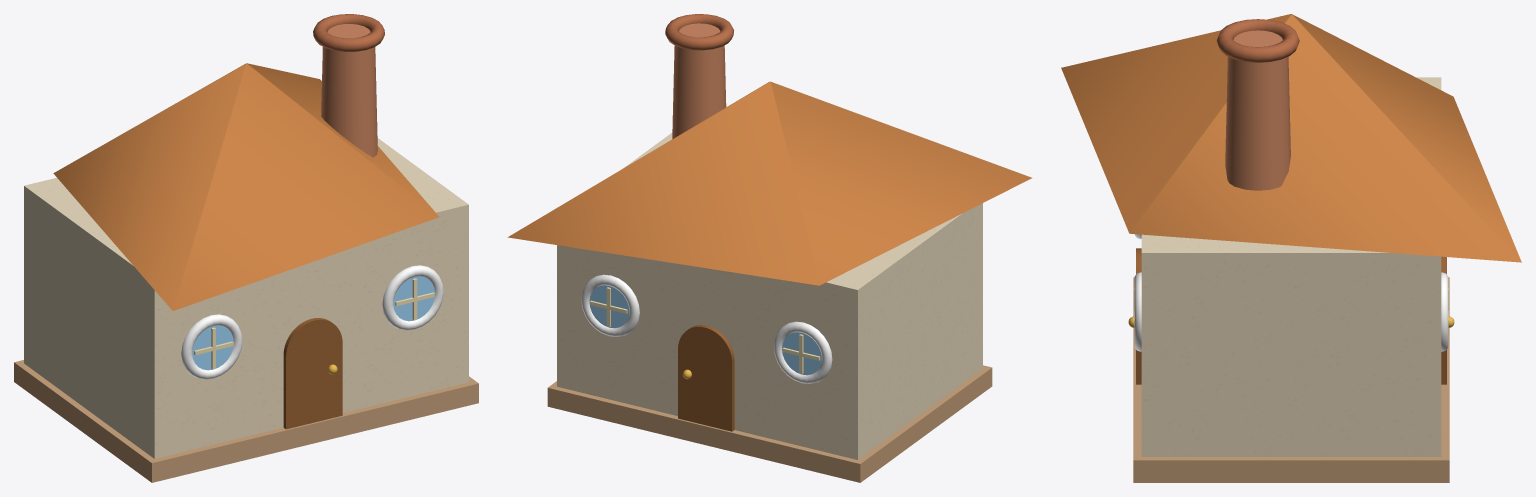
File: cottage.glb
3 renders of one model, left to right at view 1: azimuth 30°, elevation 25°; view 2: azimuth 150°, elevation 25°; view 3: azimuth 270°, elevation 25°, orthographic. The views are drawn at different scales.
Bounding box in the file's own units: 5.54 × 5.4 × 5.54.
Materials: 10 (2 with a texture image).
